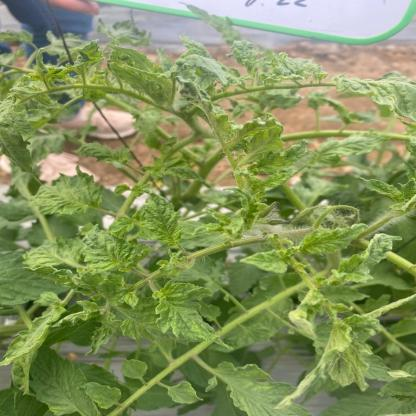T_L_H: (30, 347, 102, 416)
T_L_R: (1, 293, 67, 395), (214, 363, 313, 416), (320, 315, 382, 391), (154, 282, 223, 345), (33, 172, 103, 216), (82, 226, 144, 272), (300, 224, 368, 255), (144, 194, 183, 246), (82, 383, 122, 410), (159, 382, 203, 405), (123, 360, 148, 385)
